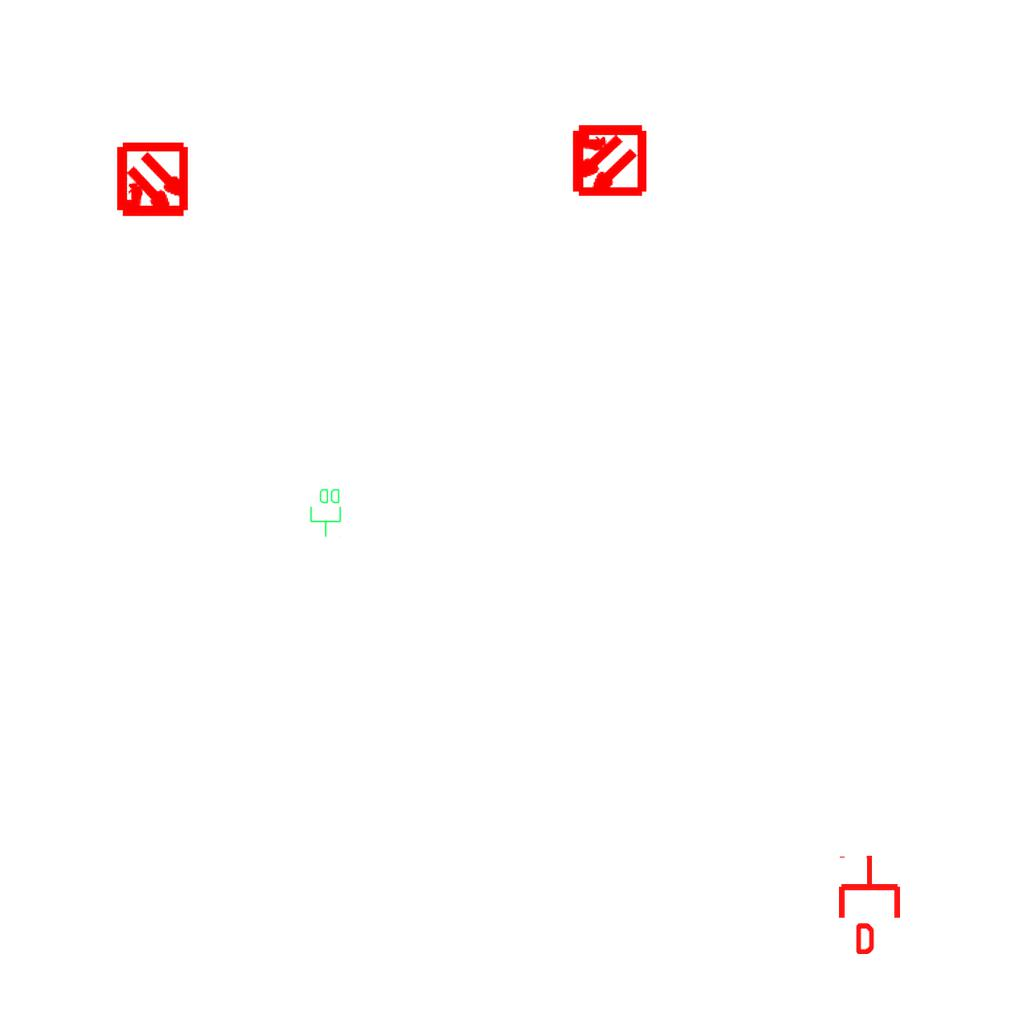Datenanschluss_einfach: (835, 854, 904, 954)
Datenanschluss_zweifach: (309, 487, 343, 538)
OT_Multisensormelder_(Kombination_RMO_WMD): (551, 104, 664, 217), (96, 125, 209, 238)
